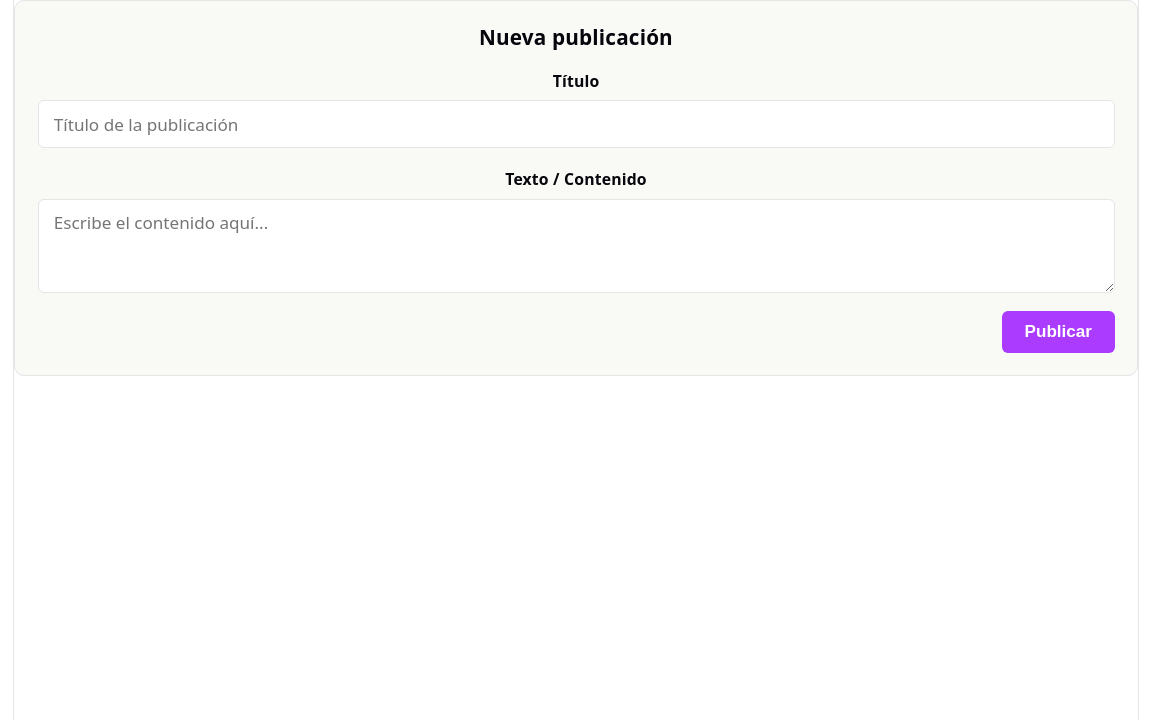
Scenario: PostForm component › muestra mensaje de error si falla la creación del post
Type "Título" into the field labelled "Título" at (576, 124), box [38, 100, 1114, 148]
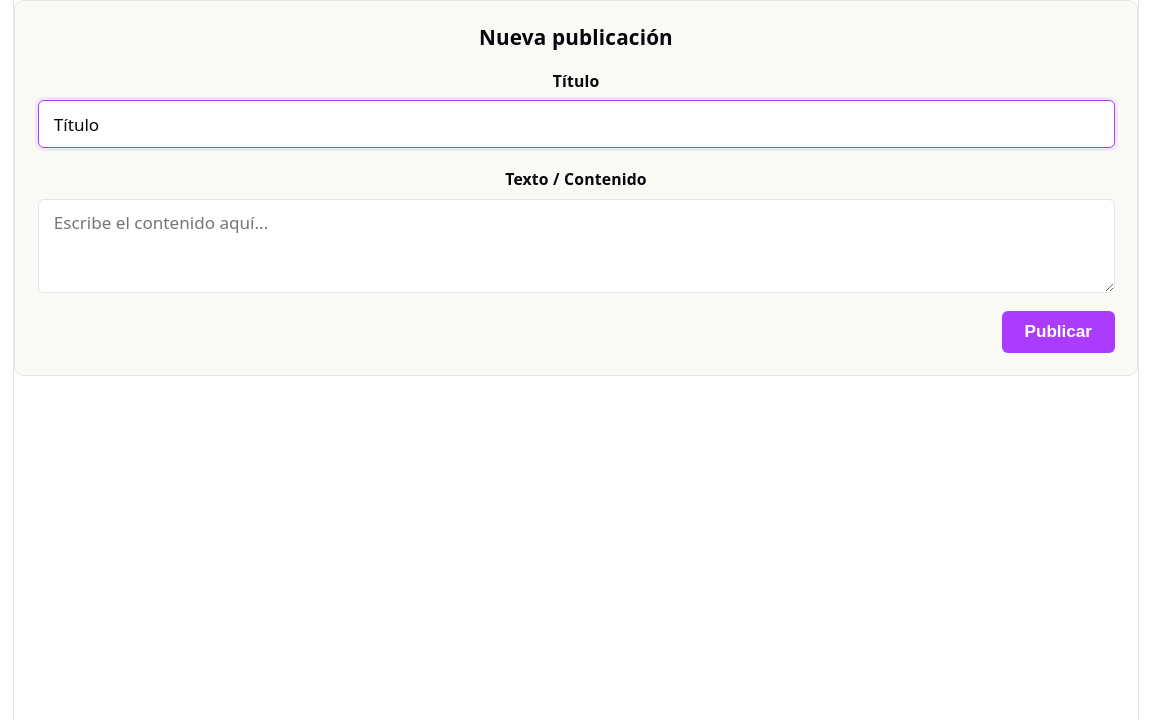
Type "Contenido" into the text box labelled "Texto / Contenido" at (576, 246), box [38, 199, 1114, 293]
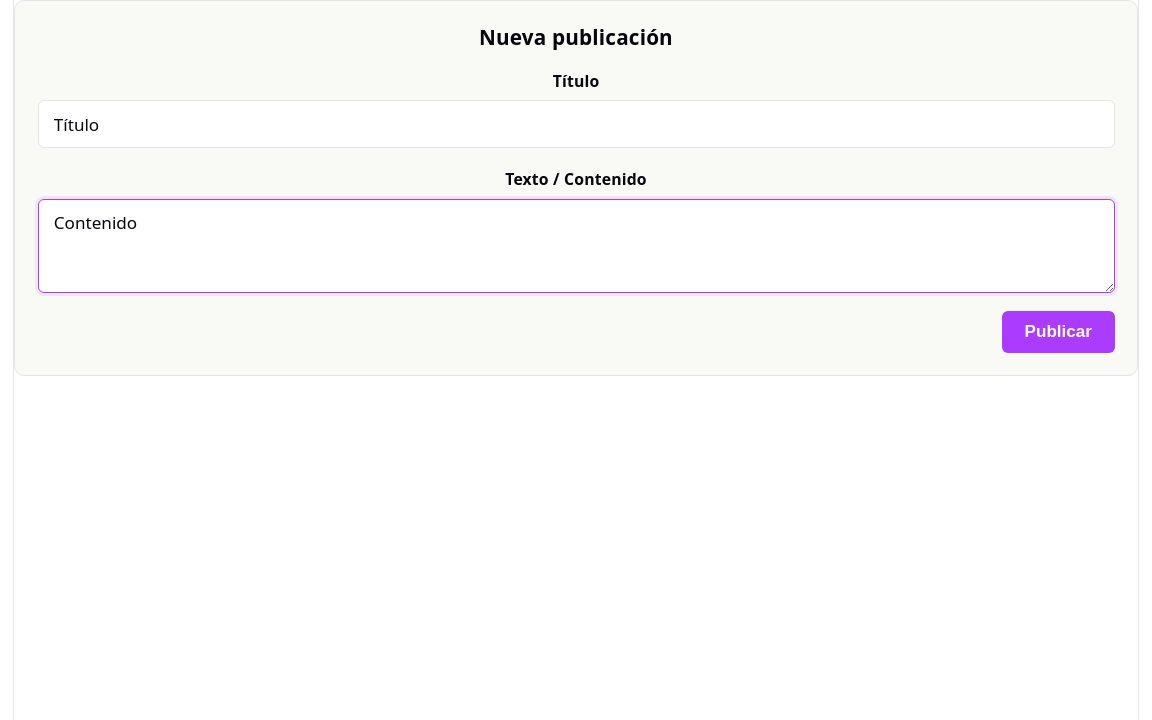
Click the button "Publicar" at (1058, 332), box [1002, 311, 1114, 353]
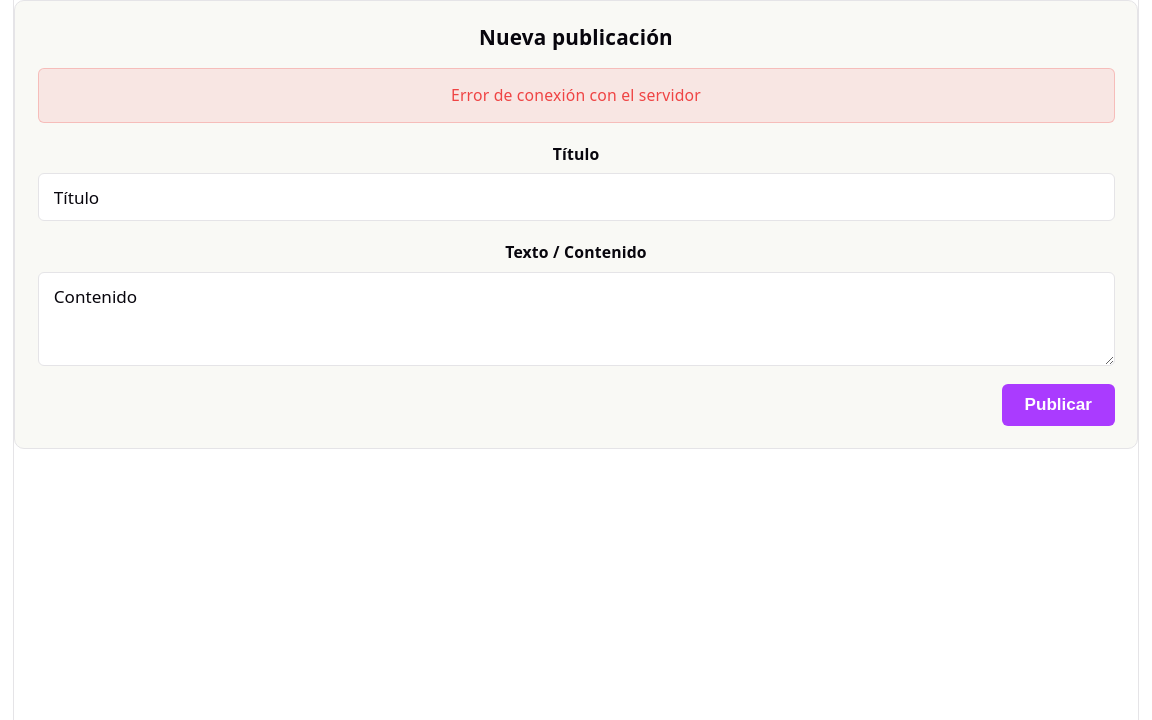
Check: the text "Error de conexión con el servidor" is shown, box [38, 68, 1114, 123]
